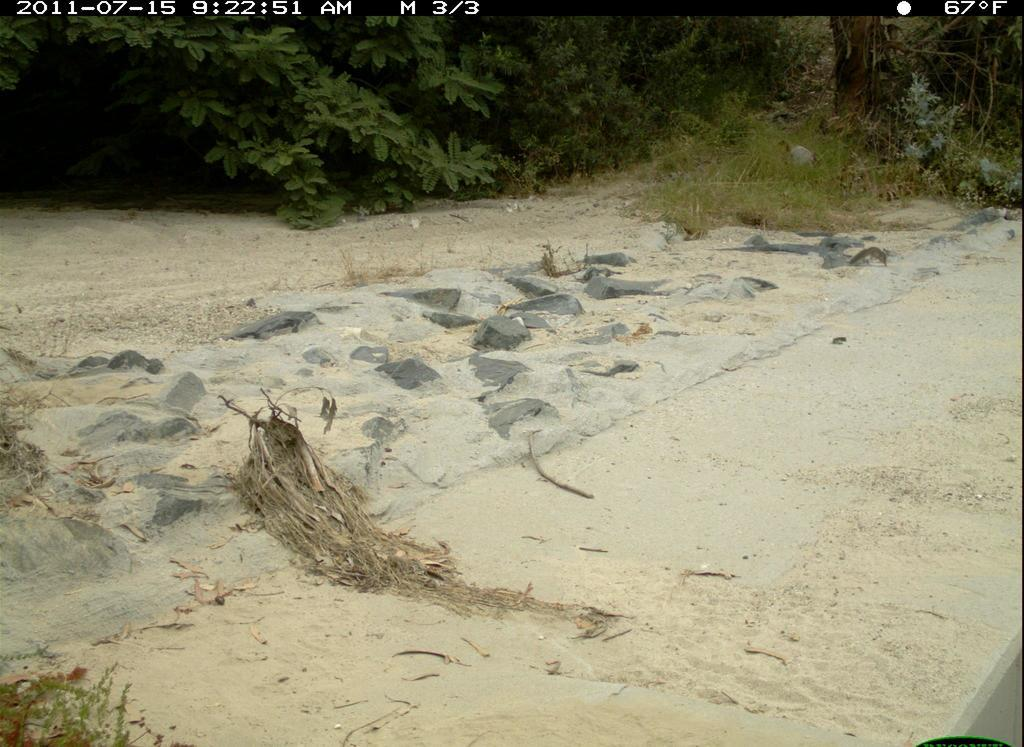squirrel: (847, 245, 893, 268)
